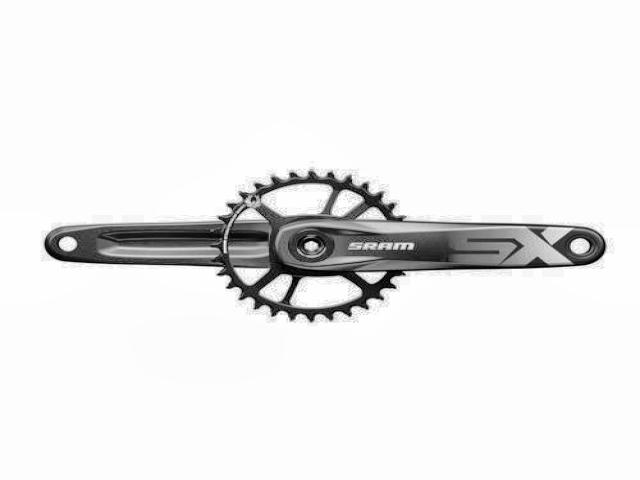cranks_set: (210, 168, 611, 324)
